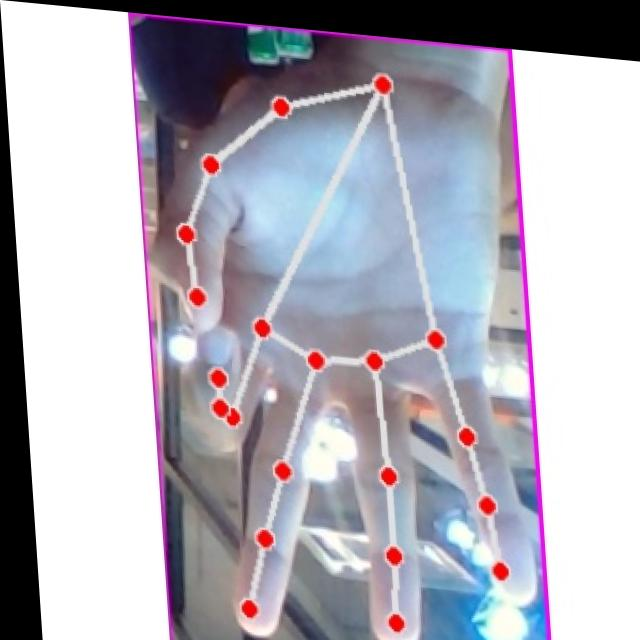F: (135, 41, 535, 640)
